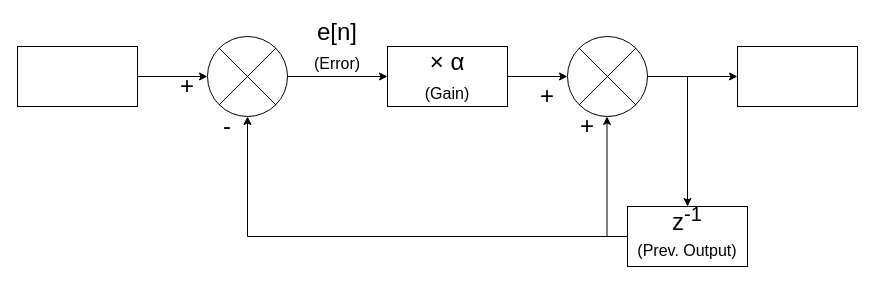
This 875x288 diagram has some shape labels left out. Here are the shapes that lost their labels. From the top down, the box of each, then its label:
(16, 46, 138, 106): x[n] (Target Angle)
(736, 46, 858, 106): y[n] (Filtered Angle)
